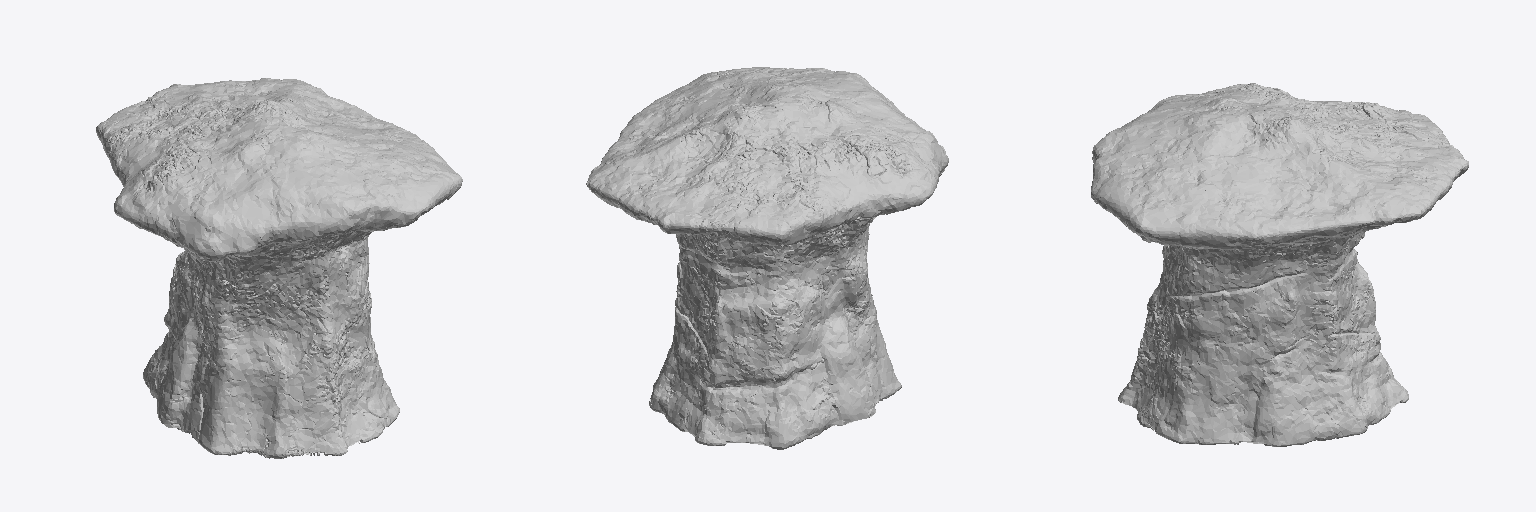
File: CliffMushroom.OBJ
3 views of the same model, side by side, from view 1: azimuth 30°, elevation 25°; view 2: azimuth 150°, elevation 25°; view 3: azimuth 270°, elevation 25° (orthographic).
Visible parts, largest first — view 1: Group31348; view 2: Group31348; view 3: Group31348.
Part boxes in pixels (bbox=[...]): Group31348: bbox=[96, 78, 462, 458]; Group31348: bbox=[586, 67, 948, 449]; Group31348: bbox=[1091, 83, 1468, 446].
Size of the model in its own units: 4.22 by 3.93 by 4.63.